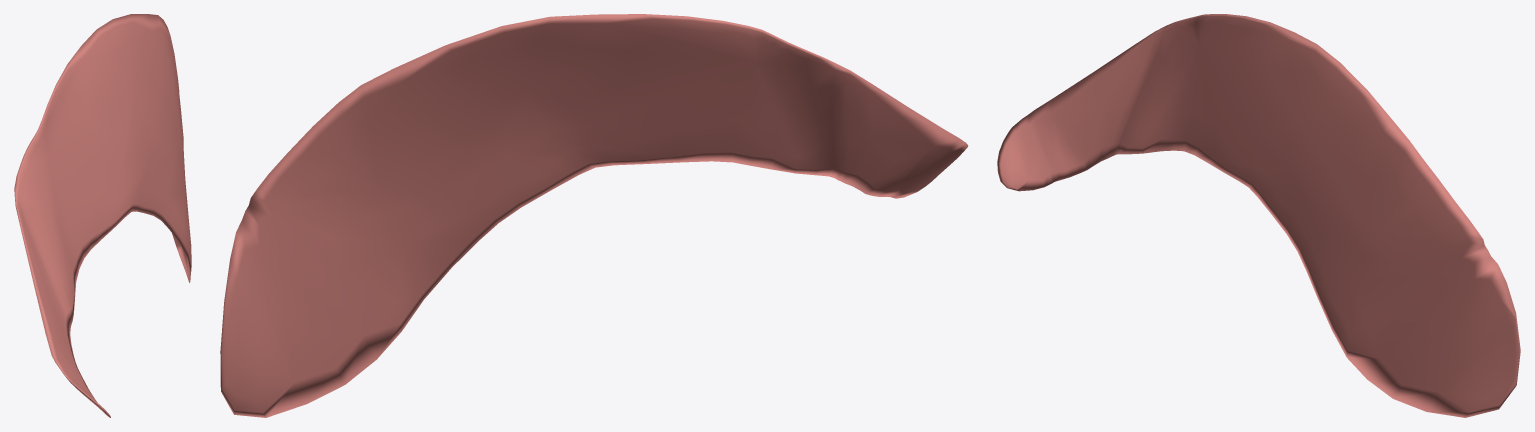
3 renders of one model, left to right at view 1: azimuth 30°, elevation 25°; view 2: azimuth 150°, elevation 25°; view 3: azimuth 270°, elevation 25°, orthographic. The views are drawn at different scales.
Visible parts, largest first — view 1: ZA_2adb4b3d027102c6; view 2: ZA_2adb4b3d027102c6; view 3: ZA_2adb4b3d027102c6.
Boxes of the visible parts, x1,y1,x2,y2 form: ZA_2adb4b3d027102c6: (14,14,191,417); ZA_2adb4b3d027102c6: (220,14,968,417); ZA_2adb4b3d027102c6: (997,14,1520,417).
Size of the model in its own units: 0.0662 by 0.0552 by 0.0872.
